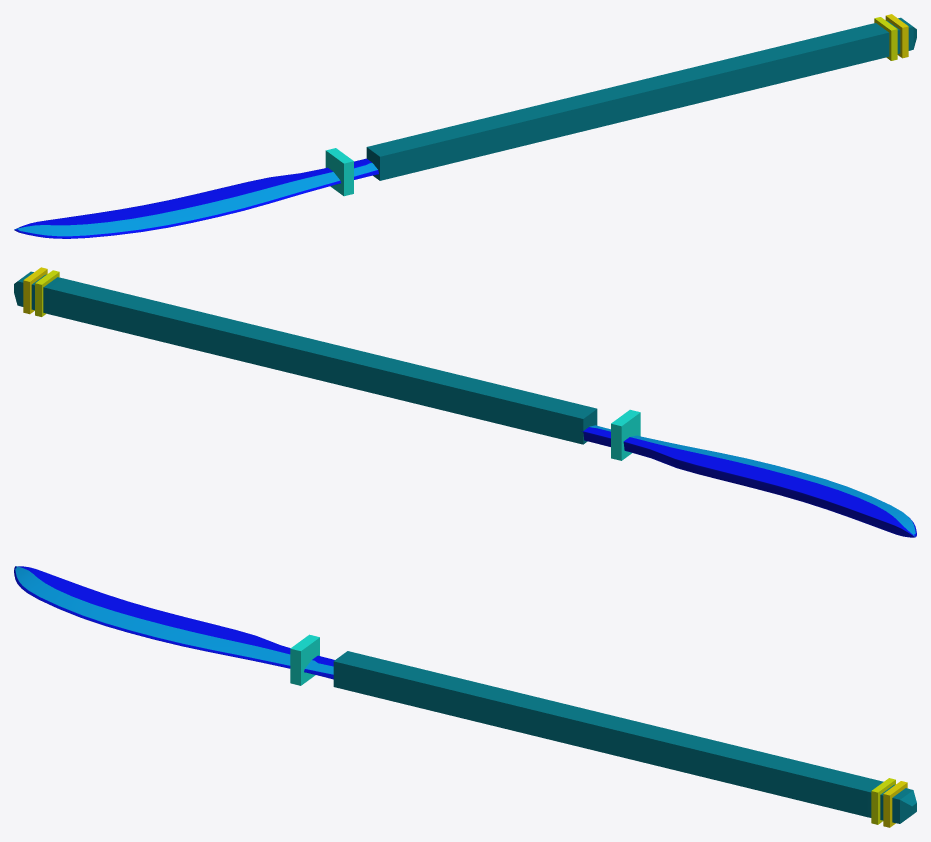
The model's file is Spear.fbx.
3 views of the same model, one above another, from view 1: azimuth 30°, elevation 25°; view 2: azimuth 150°, elevation 25°; view 3: azimuth 330°, elevation 25° (orthographic). The views are drawn at different scales.
Visible parts, largest first — view 1: S_img; view 2: S_img; view 3: S_img.
Boxes of the visible parts, x1=… form: S_img: x1=14, y1=14, x2=916, y2=238; S_img: x1=14, y1=267, x2=916, y2=537; S_img: x1=14, y1=566, x2=916, y2=827.
Bounding box in the file's own units: 191 × 6.84 × 13.94.
